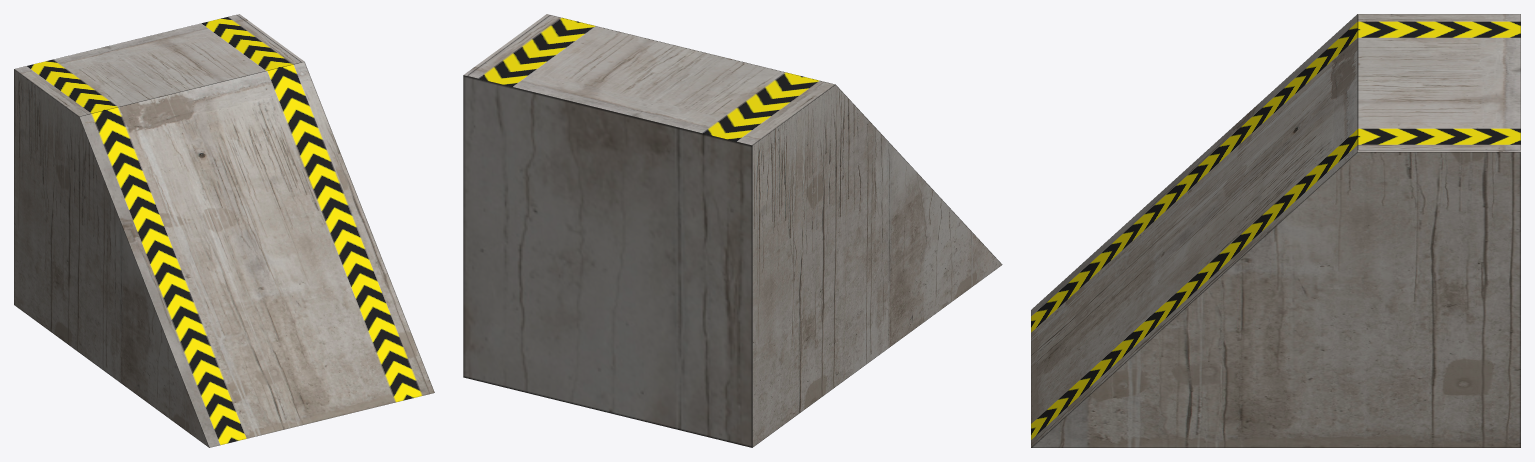
Rendered from RampMesh.fbx.
The picture shows the model from 3 angles, left to right: view 1: azimuth 30°, elevation 25°; view 2: azimuth 150°, elevation 25°; view 3: azimuth 270°, elevation 25°; orthographic projection. The views are drawn at different scales.
Parts seen in each view (by area): view 1: Ramp; view 2: Ramp; view 3: Ramp.
Boxes of the visible parts, x1,y1,x2,y2 form: Ramp: [14, 14, 434, 447]; Ramp: [463, 14, 1002, 447]; Ramp: [1031, 14, 1520, 447].
Bounding box in the file's own units: 200 × 200 × 300.
Materials: 1 (1 with a texture image).
